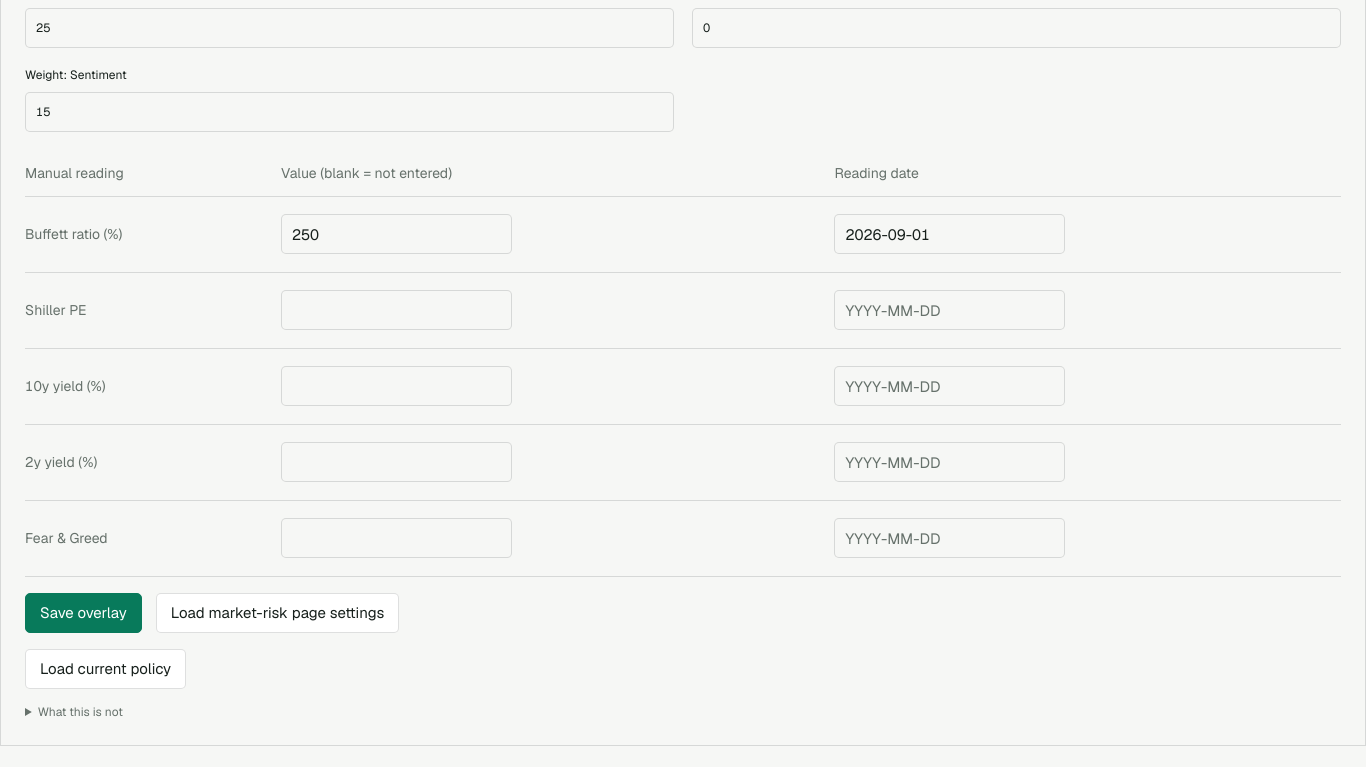
Test case: regime overlay panel › shows the cap, loads the market-risk page settings and saves with the policy version
(page scrolled)
Click the button "Load market-risk page settings" at (278, 612), box left=156, top=592, right=399, bottom=632
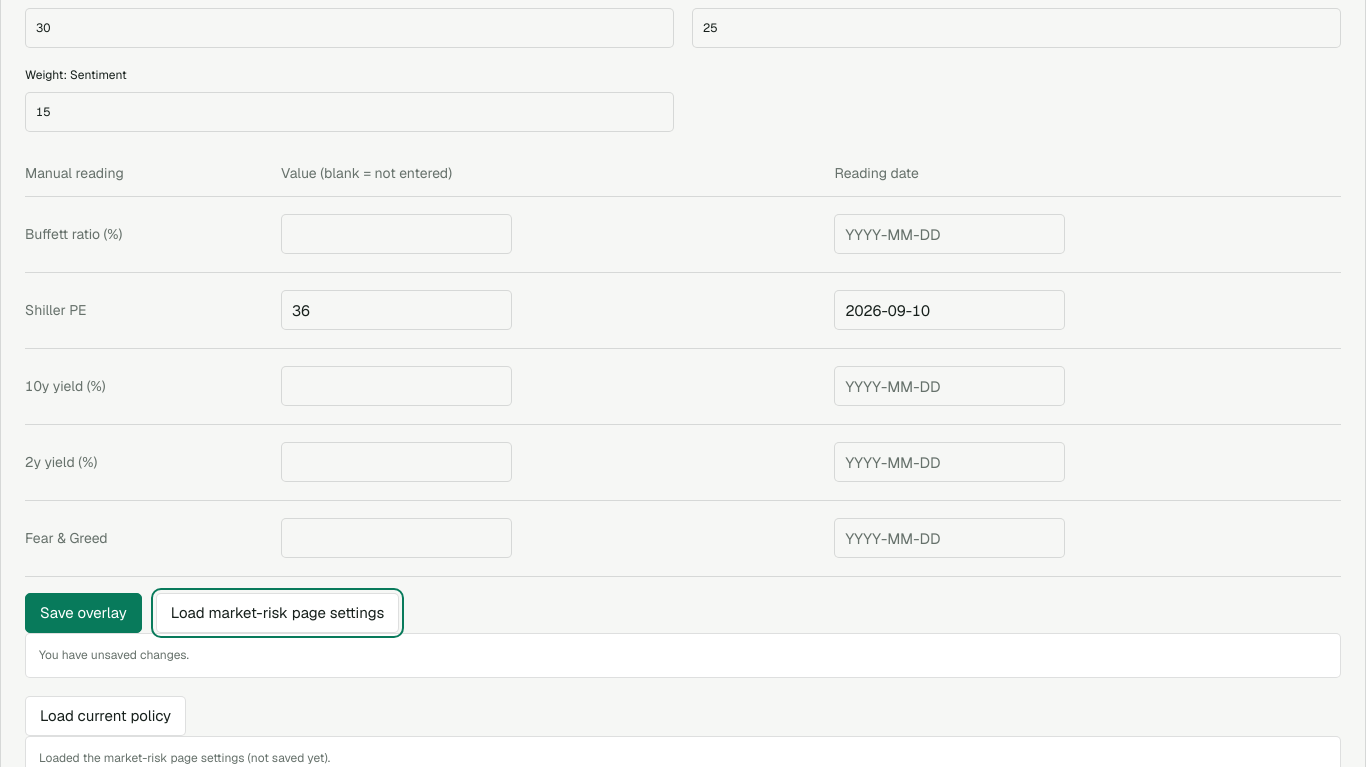
Check: the field named "Shiller PE" holds "36", box left=281, top=290, right=512, bottom=330
Click the button "Save overlay" at (83, 612), box left=25, top=592, right=142, bottom=632
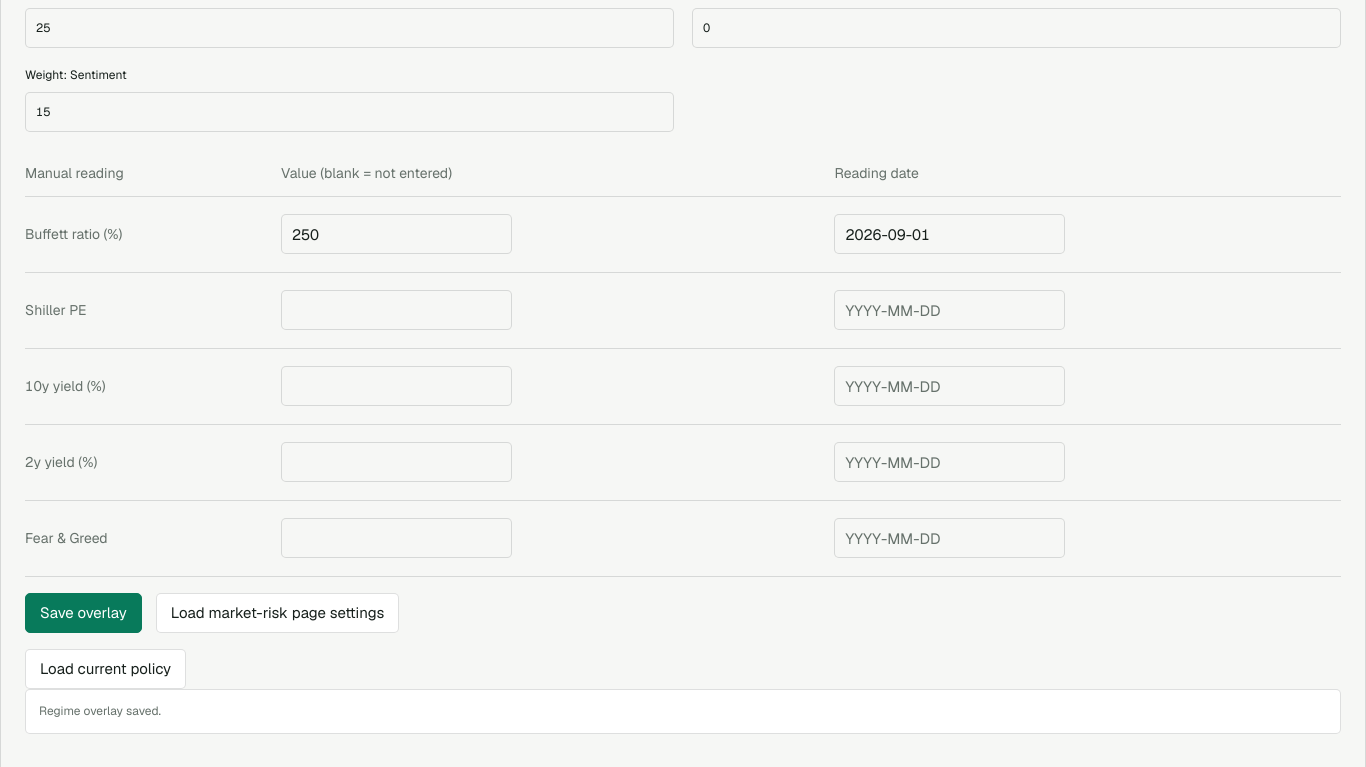
Check: the text "Regime overlay saved." is shown, box left=25, top=688, right=1341, bottom=734
